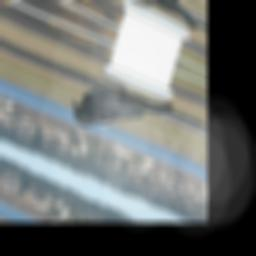Crow: (66, 63, 176, 162)
